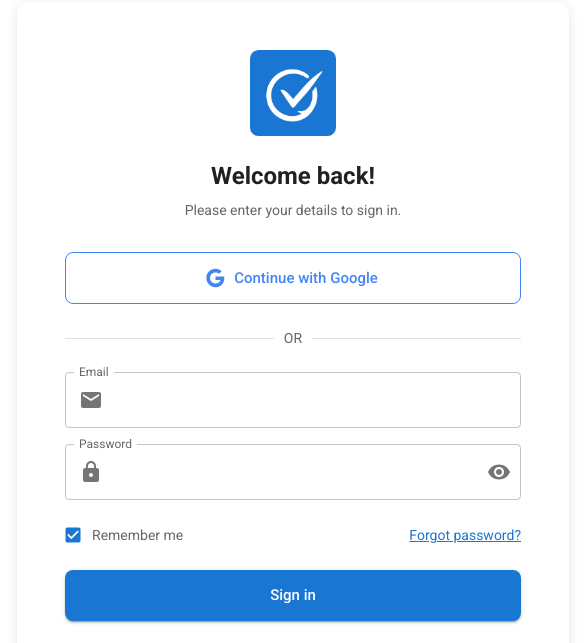
Test: Authentication › Login Validation › should show error for short password
The width and height of the screenshot is (587, 643).
Type "test@example.com" into the field labelled "Email".
click(316, 400); type("test@example.com")  # box [111,372,521,428]
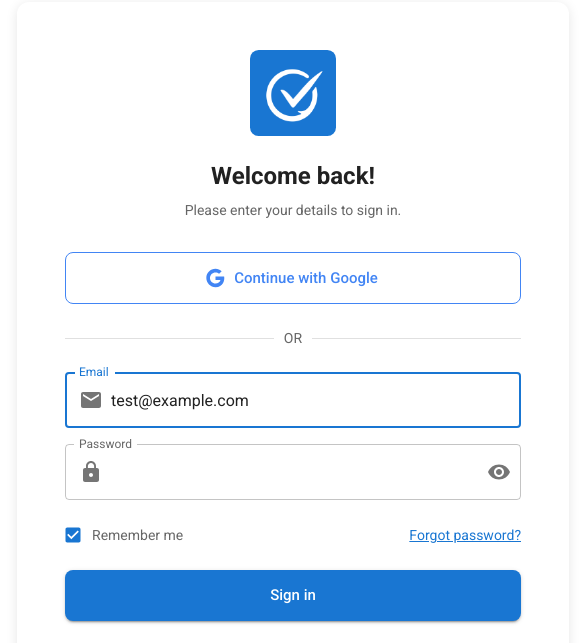
Type "123" into the password field labelled "Password".
click(291, 472); type("123")  # box [111,444,471,500]
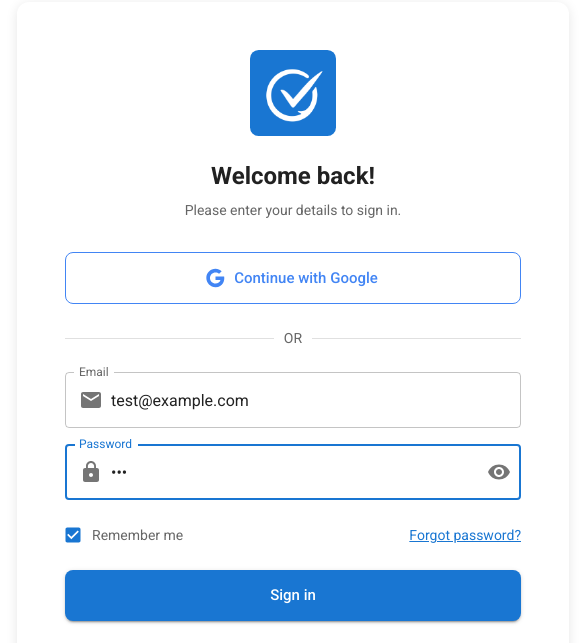
Click the button "Sign in".
click(293, 595)  # box [65,570,521,620]
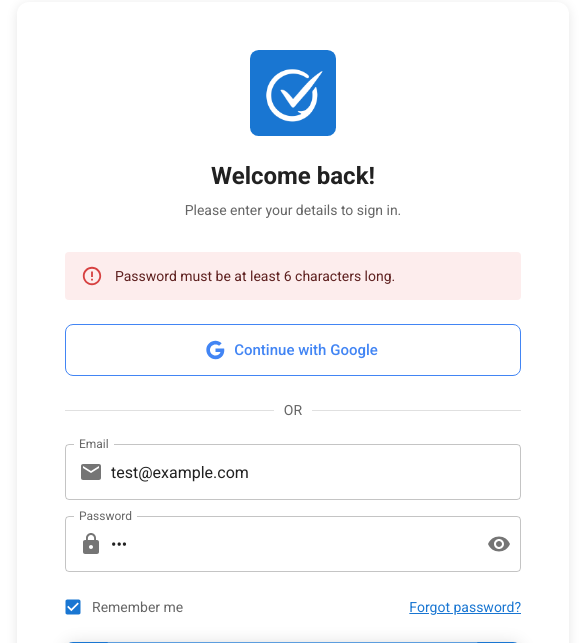
Now the text "Password must be at least 6 characters" is shown, box [115,268,395,284]
